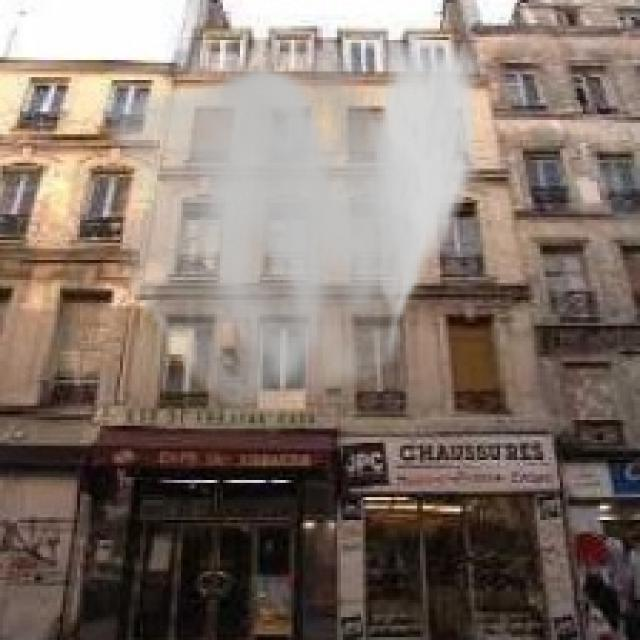smoke: (108, 20, 486, 417)
